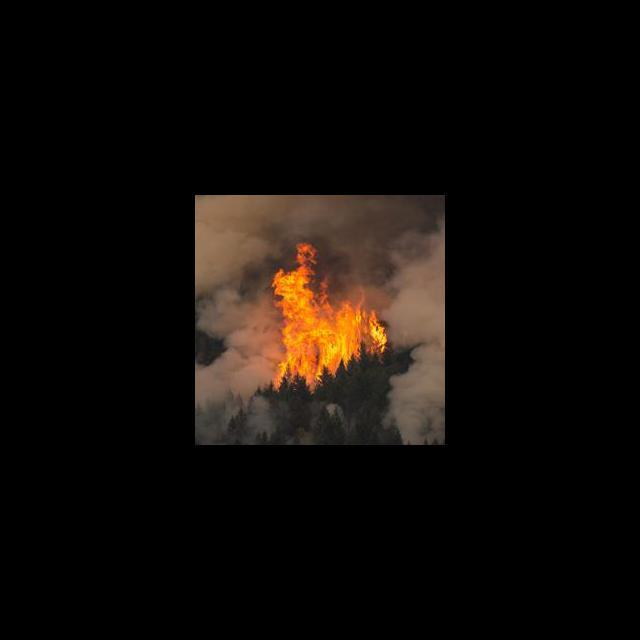Fire: (267, 239, 388, 392)
Smoke: (195, 195, 268, 444), (390, 198, 444, 444)
